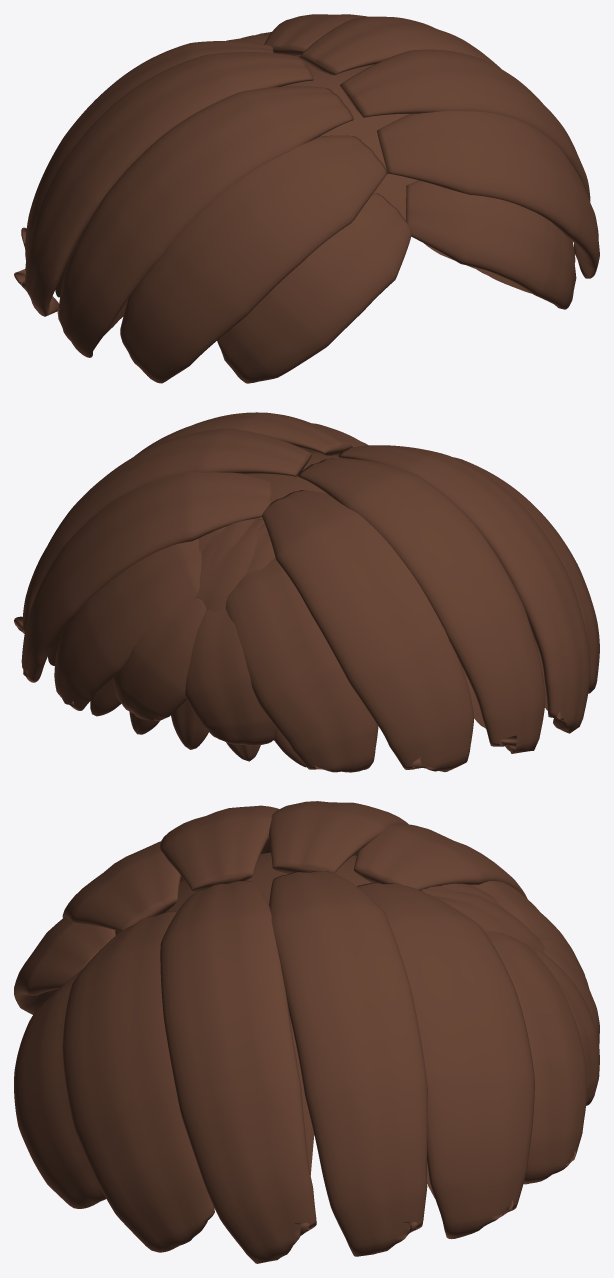
File: Masculine-middle-part-hair261.glb
The picture shows the model from 3 angles, top to bottom: view 1: azimuth 30°, elevation 25°; view 2: azimuth 150°, elevation 25°; view 3: azimuth 270°, elevation 25°; orthographic projection. The views are drawn at different scales.
Parts seen in each view (by area): view 1: 226 hair / Hair260 / layered middle-part; view 2: 226 hair / Hair260 / layered middle-part; view 3: 226 hair / Hair260 / layered middle-part.
Part boxes in pixels (left/top/right/bottom): 226 hair / Hair260 / layered middle-part: left=14, top=14, right=599, bottom=383; 226 hair / Hair260 / layered middle-part: left=14, top=412, right=599, bottom=772; 226 hair / Hair260 / layered middle-part: left=14, top=801, right=599, bottom=1263.
Bounding box in the file's own units: 1.03 × 0.4519 × 0.8741.
